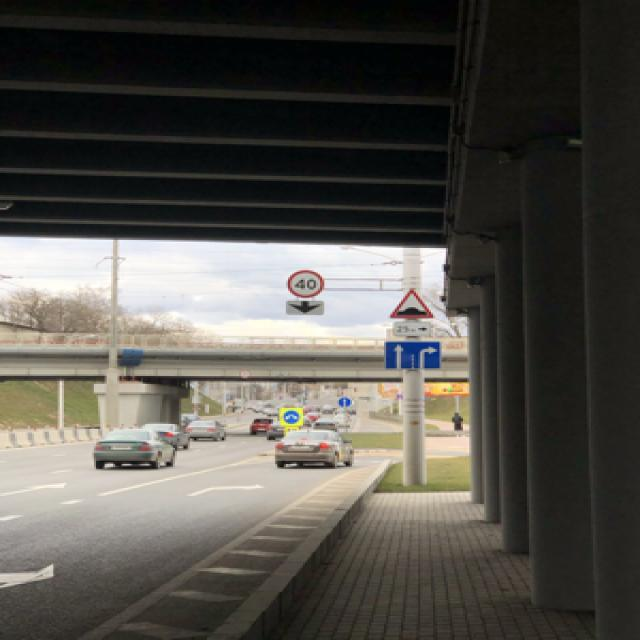speedlimit: (284, 267, 322, 296)
